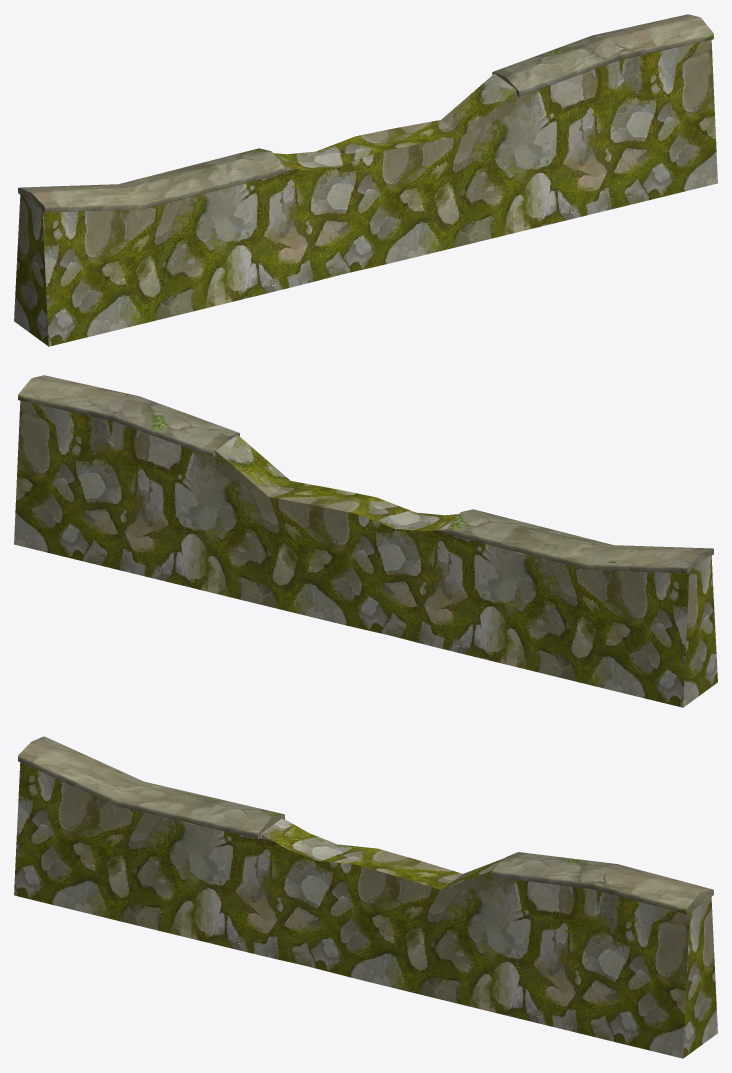
The model's file is Muro Danificado 3.fbx.
3 views of the same model, one above another, from view 1: azimuth 30°, elevation 25°; view 2: azimuth 150°, elevation 25°; view 3: azimuth 330°, elevation 25° (orthographic).
Visible parts, largest first — view 1: Portão muro pedra danificado.002; view 2: Portão muro pedra danificado.002; view 3: Portão muro pedra danificado.002.
Boxes of the visible parts, x1,y1,x2,y2 form: Portão muro pedra danificado.002: (14, 14, 717, 346); Portão muro pedra danificado.002: (14, 375, 717, 707); Portão muro pedra danificado.002: (14, 736, 717, 1058).
Bounding box in the file's own units: 845 × 188 × 76.15.
